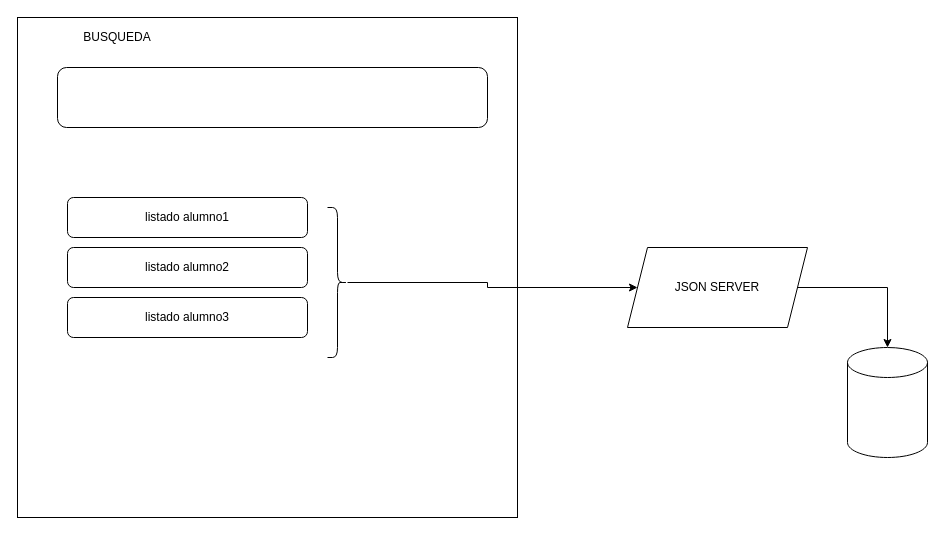
The diagram is 945 pixels wide and 535 high, and some of its shapes have lost their labels. Here are the shapes that lost their labels. From the top down, the centre of each, then its label:
[272,97]: CAJA BÚSQUEDA
[887,402]: db.json
